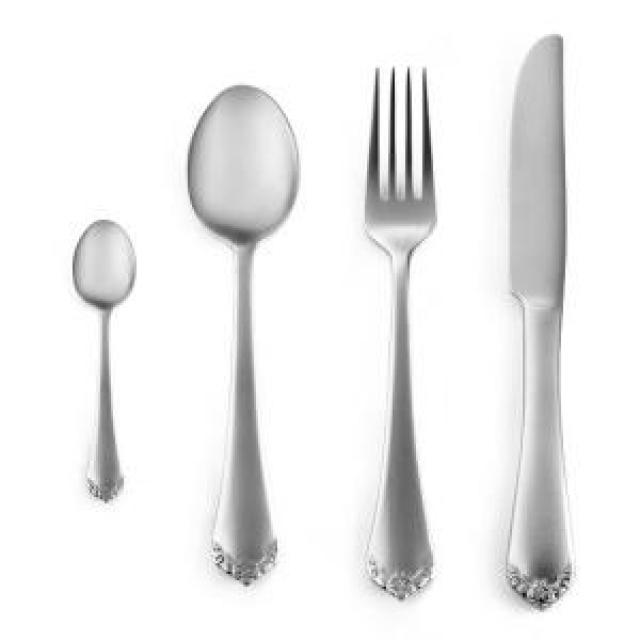knife: (504, 34, 586, 611)
